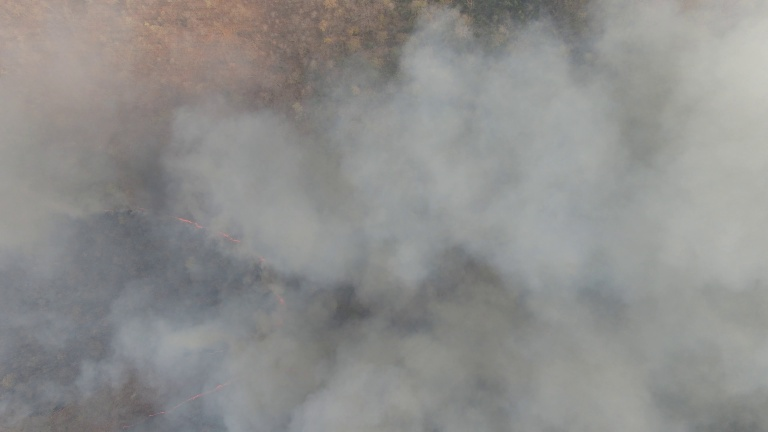fire: (149, 368, 278, 417), (176, 214, 269, 264), (255, 268, 295, 368)
smoke: (176, 63, 768, 257), (117, 279, 768, 432)
